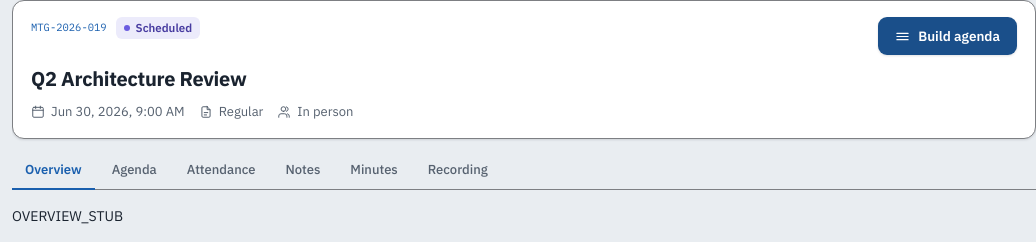
Test: MeetingPage — meeting shell (P6a IA) › Build agenda navigates to the agenda sub-route
Click the button "Build agenda".
click(948, 36)  # box [878,17,1017,55]
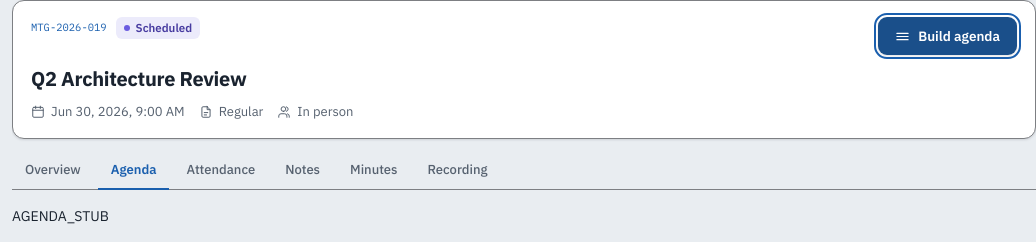
Expected: the text "AGENDA_STUB" is shown, [12,207,109,225]
